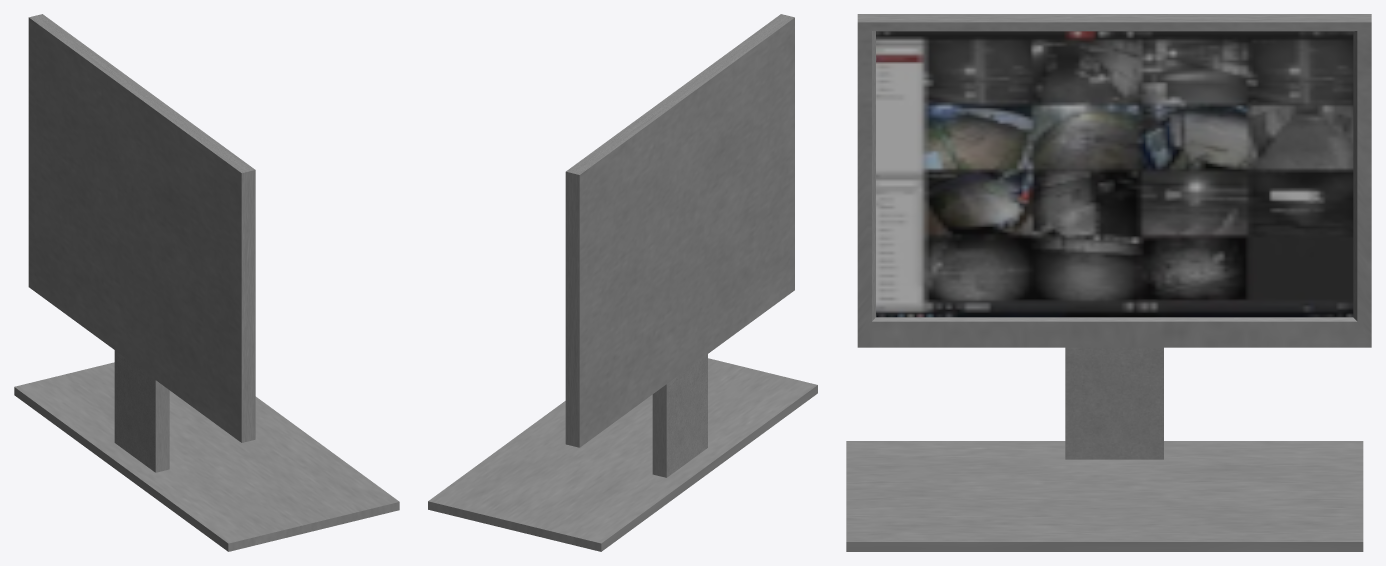
File: cctv room laptop.fbx
3 views of the same model, side by side, from view 1: azimuth 30°, elevation 25°; view 2: azimuth 150°, elevation 25°; view 3: azimuth 270°, elevation 25° (orthographic). The views are drawn at different scales.
Parts seen in each view (by area): view 1: pCube119; view 2: pCube119; view 3: pCube119.
Part boxes in pixels (x1,y1,x2,y2): pCube119: [14, 14, 399, 551]; pCube119: [428, 14, 817, 551]; pCube119: [846, 14, 1371, 551].
Size of the model in its own units: 0.3077 by 0.6367 by 0.6772.
Materials: 1 (1 with a texture image).
